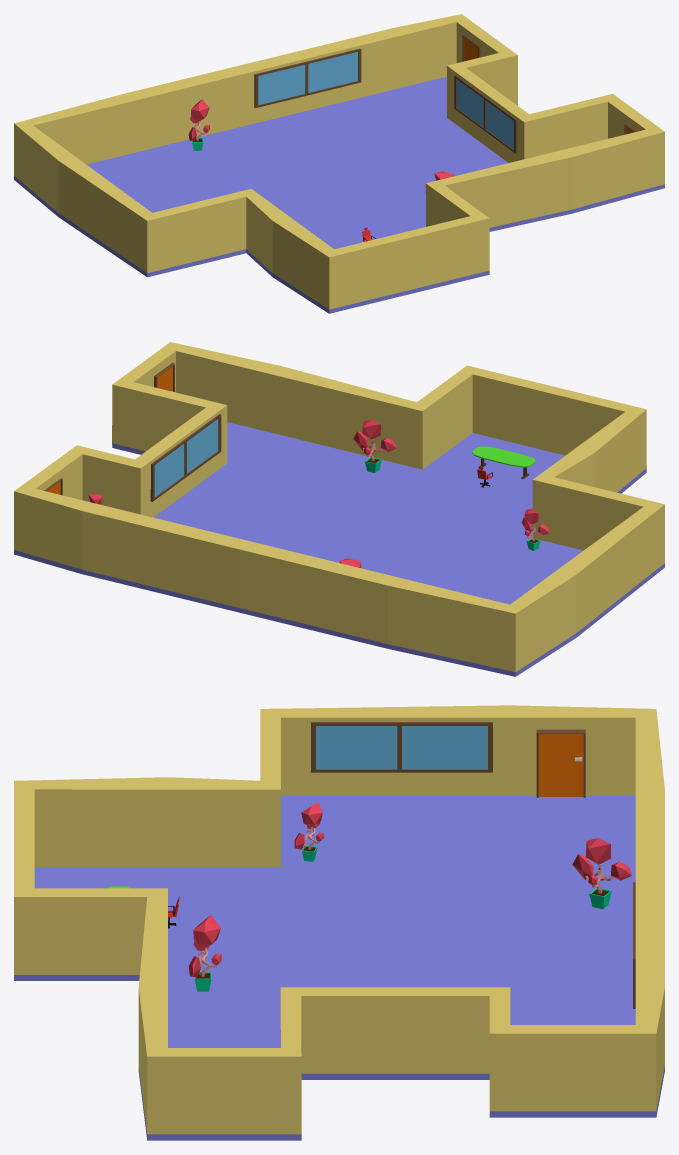
Rendered from office.fbx.
3 views of the same model, one above another, from view 1: azimuth 30°, elevation 25°; view 2: azimuth 150°, elevation 25°; view 3: azimuth 270°, elevation 25° (orthographic). The views are drawn at different scales.
Parts seen in each view (by area): view 1: dal1, cam2, cam3, dal3; view 2: dal1, cam3, dal, masa, dal4; view 3: dal1, cam1, dal3, dal, dal4.
Part boxes in pixels (x1,y1,x2,y2): dal1: (14,14,664,313); cam2: (254,48,361,108); cam3: (454,75,517,153); dal3: (188,99,209,150); dal1: (14,342,664,676); cam3: (150,414,221,501); dal: (353,419,396,472); masa: (472,446,535,479); dal4: (521,508,549,550); dal1: (14,705,664,1140); cam1: (311,722,492,772); dal3: (572,838,631,909); dal: (188,915,221,991); dal4: (294,802,323,861).
Size of the model in its own units: 3972 by 443 by 3109.
